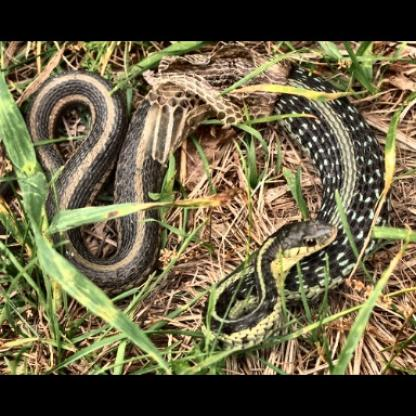Snake: (25, 52, 390, 354)
